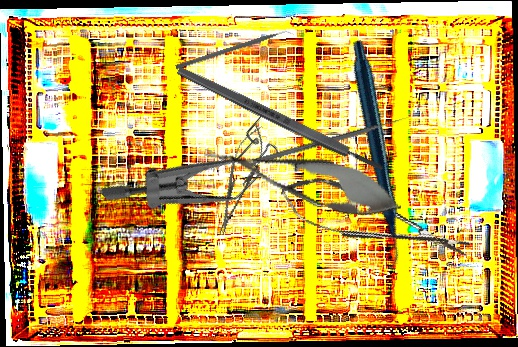Chopper: (175, 27, 295, 76)
Handpiece: (270, 38, 478, 273)
Micro Scissor: (274, 165, 475, 278), (197, 127, 409, 231)
Needle Holder: (207, 120, 272, 241)
Pusher: (252, 114, 410, 166)
Scalpel Handle: (175, 63, 386, 176)
Speculum: (97, 63, 303, 268)
